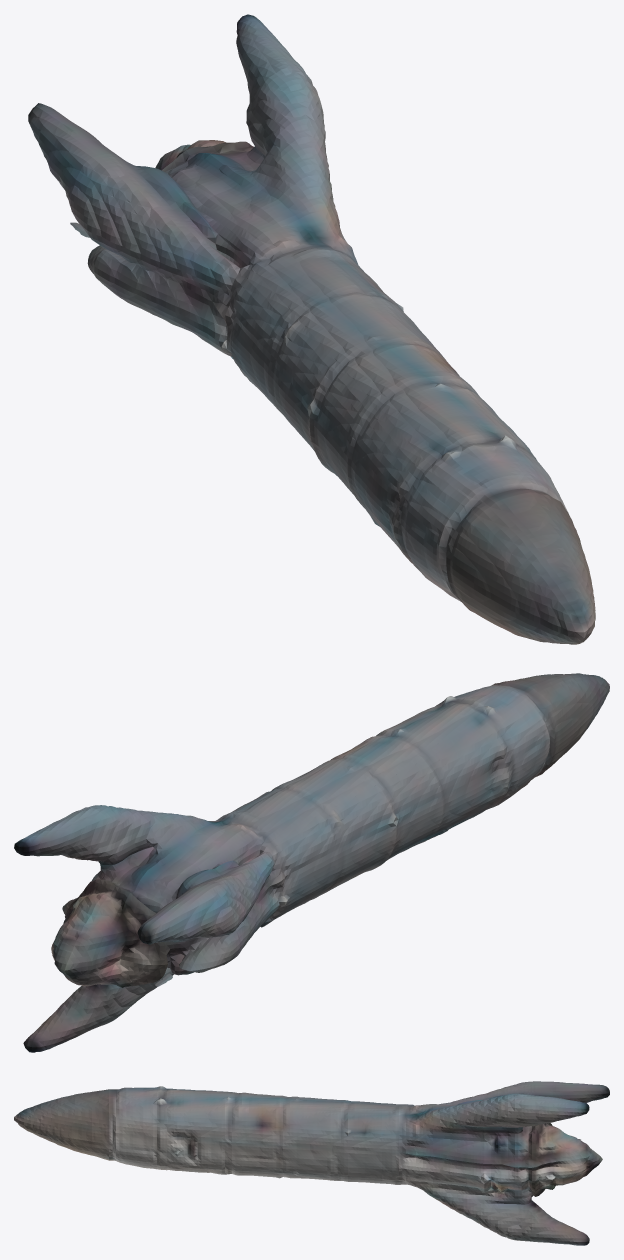
The picture shows the model from 3 angles, top to bottom: view 1: azimuth 30°, elevation 25°; view 2: azimuth 150°, elevation 25°; view 3: azimuth 270°, elevation 25°; orthographic projection. The views are drawn at different scales.
Parts seen in each view (by area): view 1: world; view 2: world; view 3: world.
Boxes of the visible parts, x1,y1,x2,y2 form: world: (28,14,595,644); world: (14,673,609,1052); world: (14,1081,609,1245).
Size of the model in its own units: 0.2587 by 0.2589 by 0.9532.
